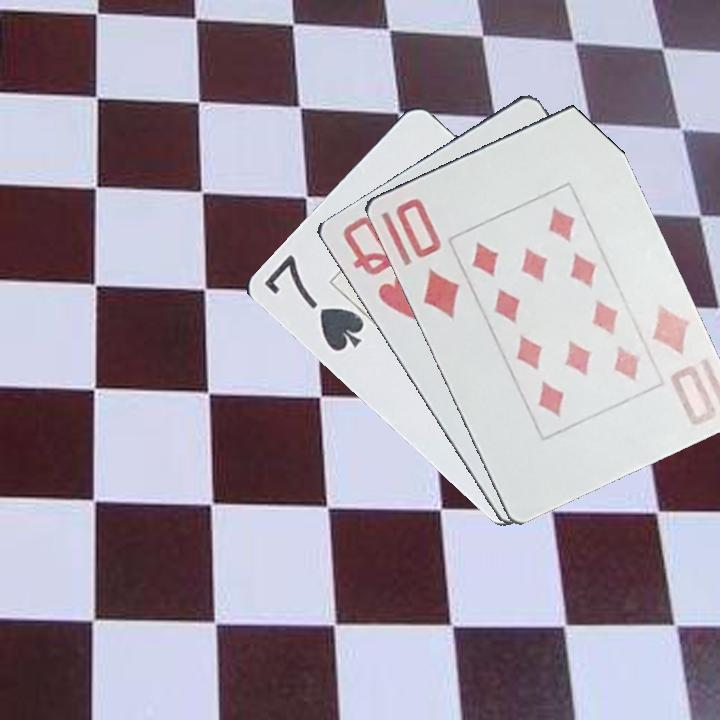7s: (260, 250, 366, 355)
Qh: (335, 209, 420, 323)
Td: (647, 299, 719, 428), (391, 194, 462, 323)
